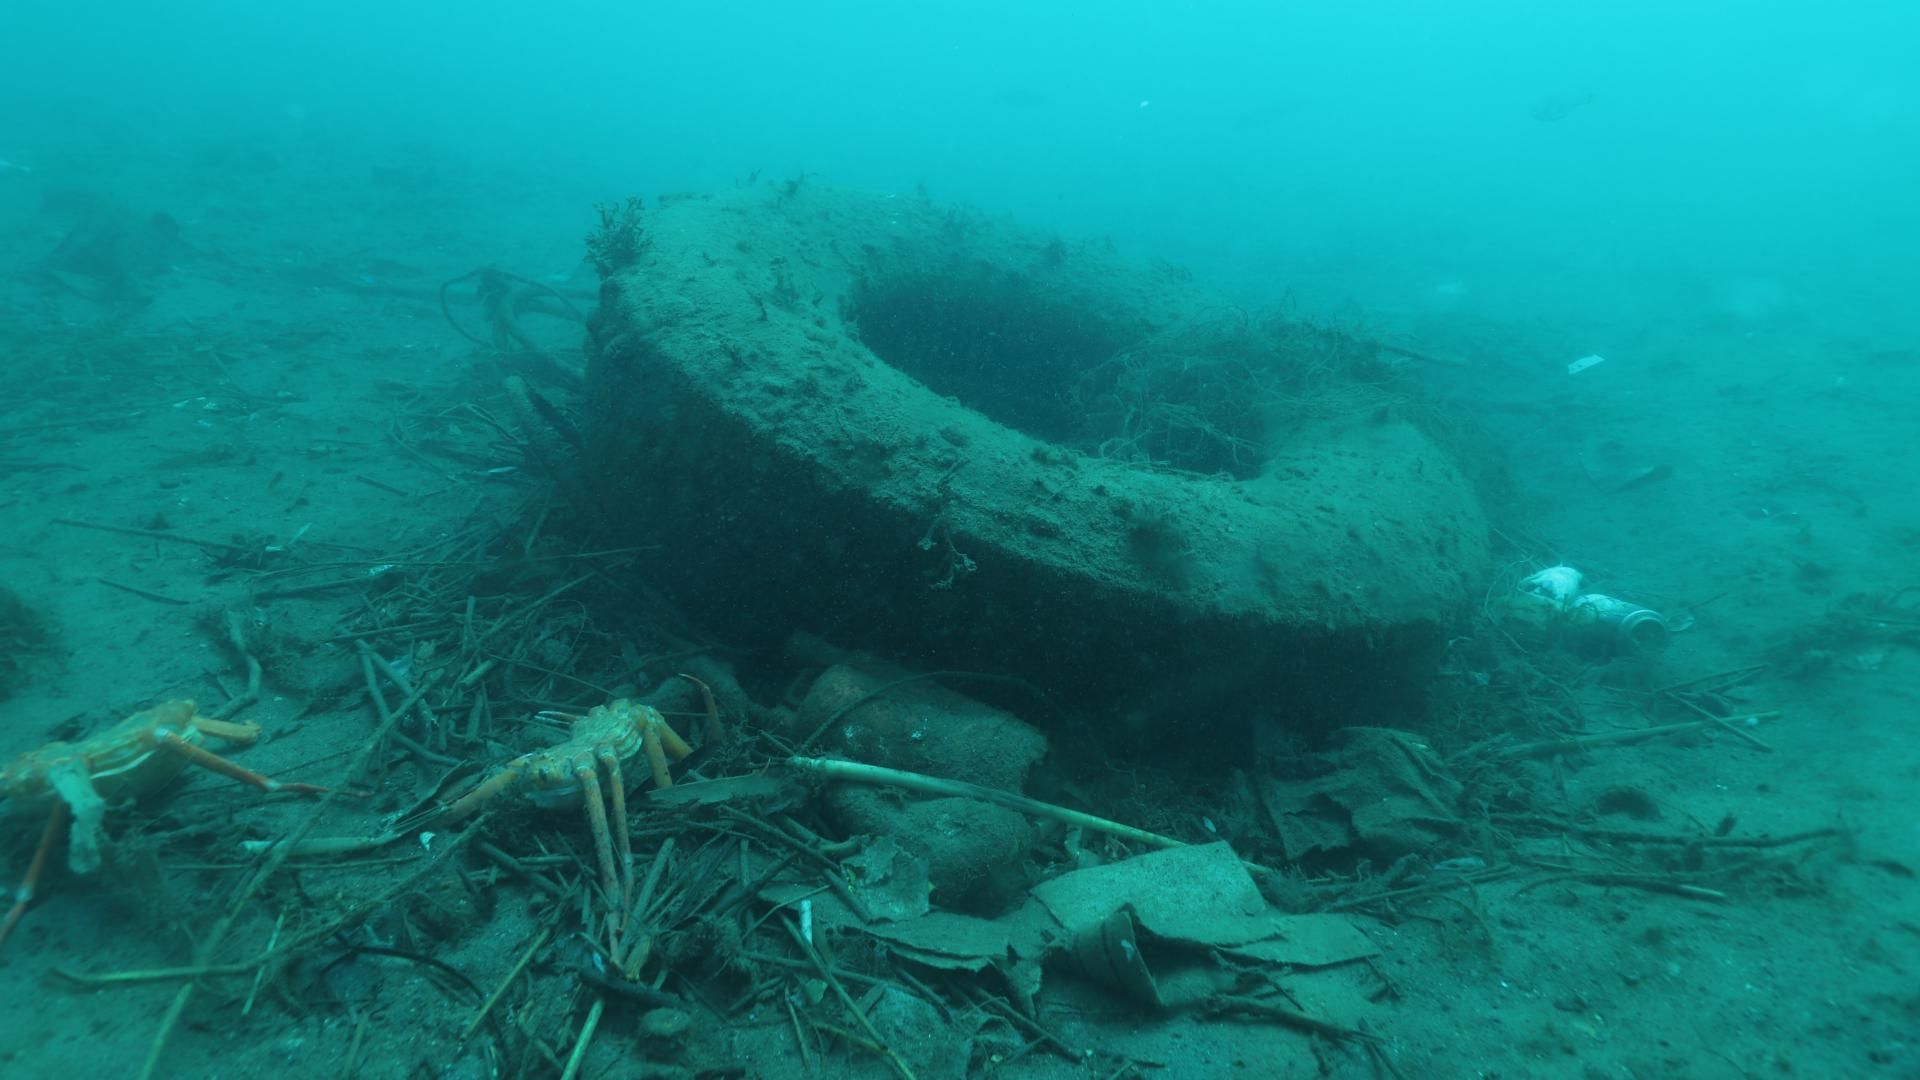tire: (593, 179, 1495, 770)
